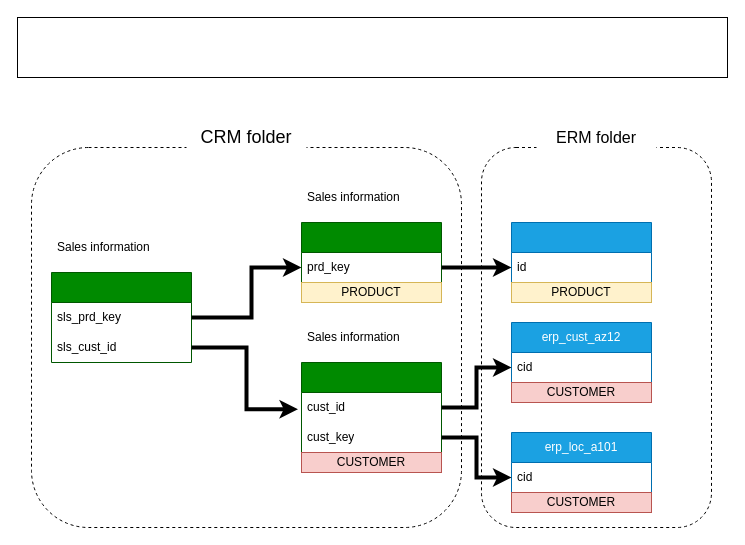
The diagram is 745 pixels wide and 545 high, and some of its shapes have lost their labels. Each missing label, with the box of its shape:
crm_cust_info: (300, 362, 442, 452)
crm_prd_info: (300, 222, 442, 282)
crm_sales_info: (50, 272, 192, 362)
erp_px_cat_g1v2: (510, 222, 652, 282)
TABLES RELATIONSHIP: (16, 16, 728, 78)
